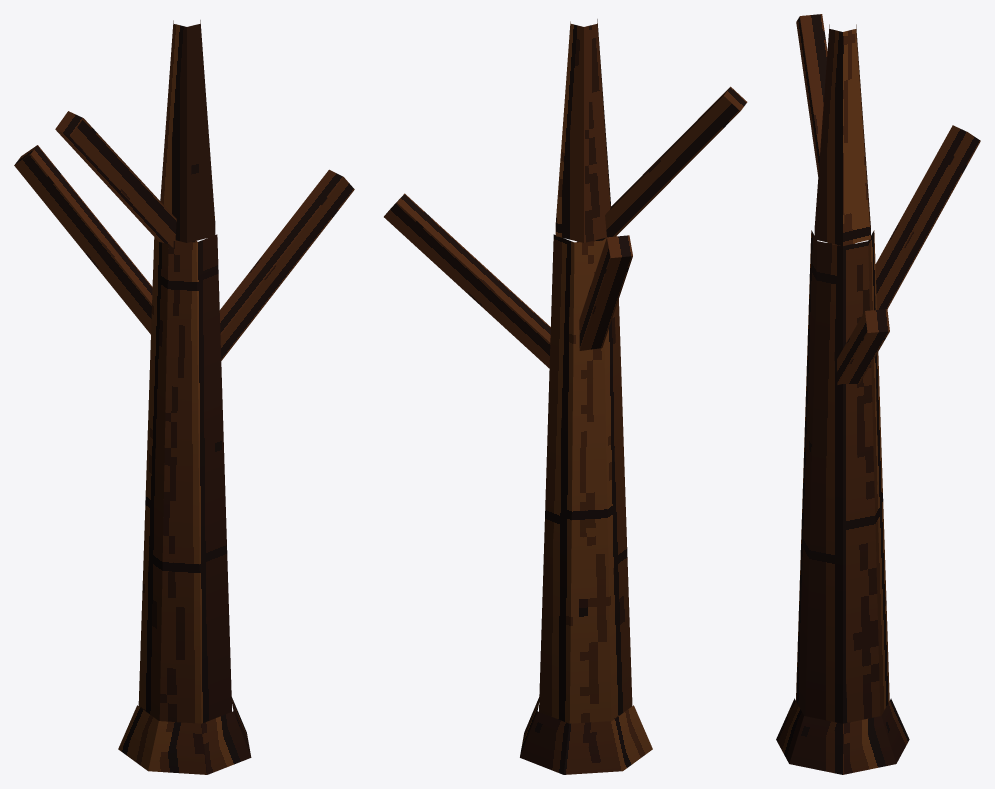
File: apple_2_trunk.glb
The picture shows the model from 3 angles, left to right: view 1: azimuth 30°, elevation 25°; view 2: azimuth 150°, elevation 25°; view 3: azimuth 270°, elevation 25°; orthographic projection.
Parts seen in each view (by area): view 1: apple_2_trunk; view 2: apple_2_trunk; view 3: apple_2_trunk.
Boxes of the visible parts, left/top/right/bottom form: apple_2_trunk: left=14, top=20, right=354, bottom=774; apple_2_trunk: left=384, top=19, right=747, bottom=774; apple_2_trunk: left=776, top=14, right=980, bottom=774.
Bounding box in the file's own units: 1.95 × 4.18 × 1.08.
1 material, 1 textured.
